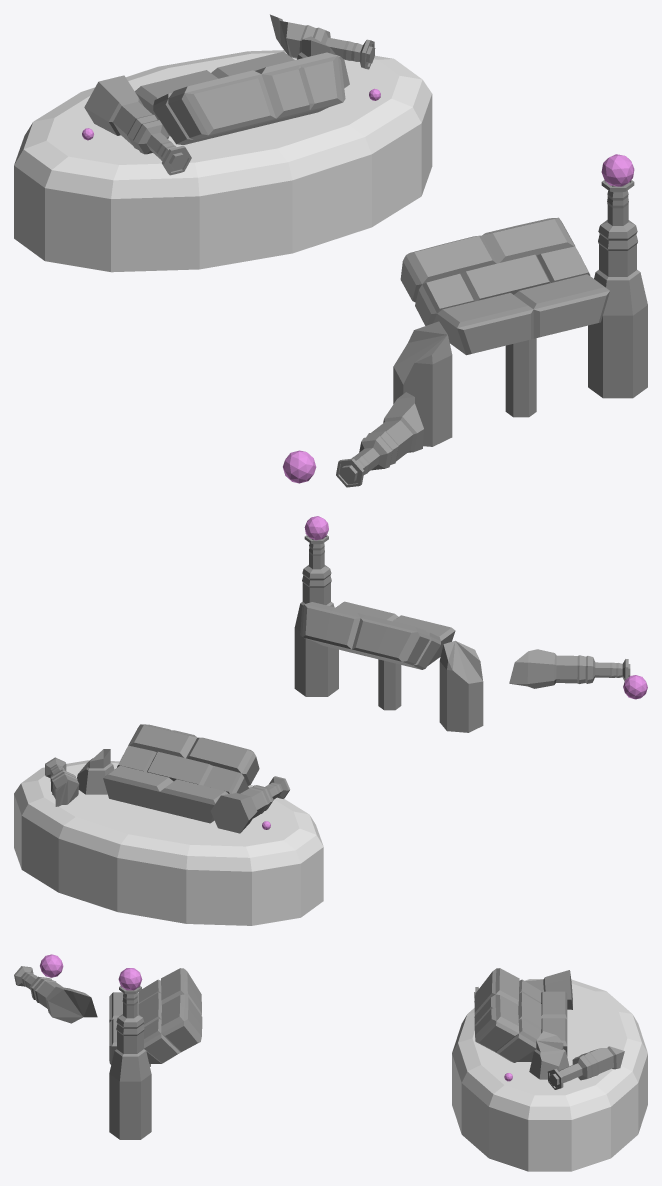
File: bridge_broken.fbx
3 views of the same model, one above another, from view 1: azimuth 30°, elevation 25°; view 2: azimuth 150°, elevation 25°; view 3: azimuth 270°, elevation 25° (orthographic). The views are drawn at different scales.
Visible parts, largest first — view 1: ponte1.001; view 2: ponte1.001; view 3: ponte1.001.
Boxes of the visible parts, x1,y1,x2,y2 form: ponte1.001: (14,14,647,487); ponte1.001: (14,516,647,925); ponte1.001: (14,954,647,1171).
Size of the model in its own units: 898 by 426 by 1441.
